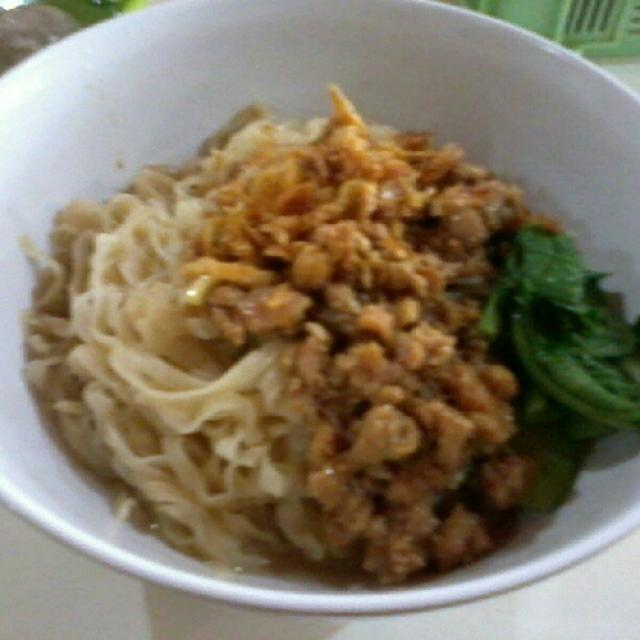面条主食: (18, 16, 621, 602)
